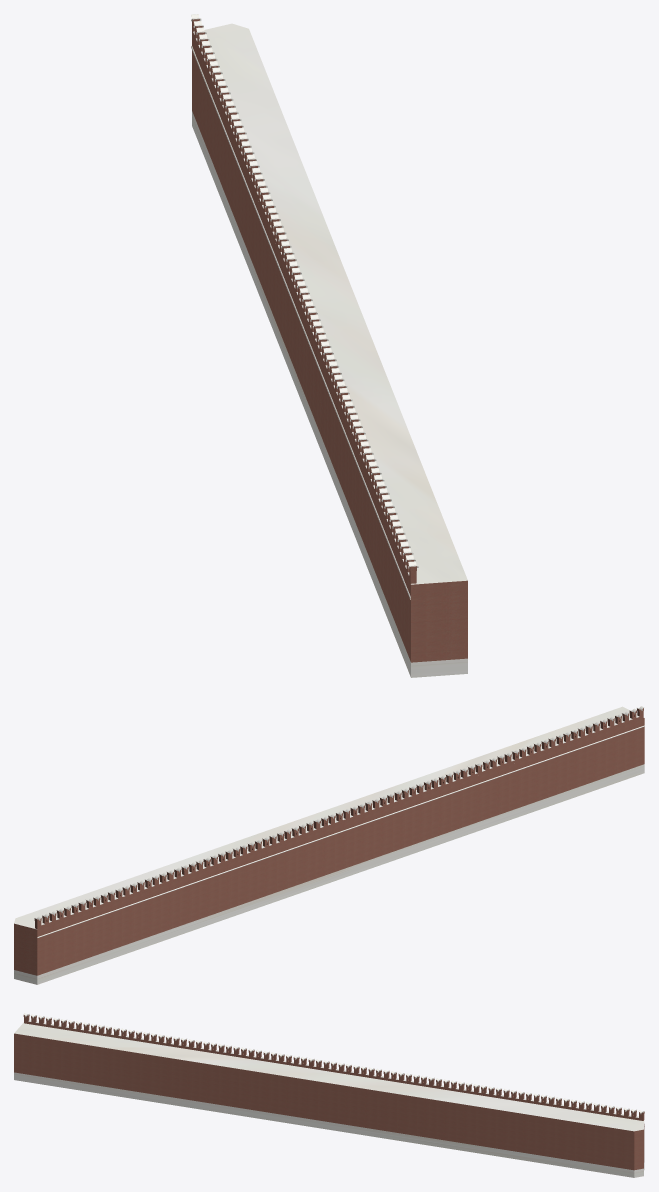
File: 01080_Kremlevskaya_stena_11.FBX
3 views of the same model, one above another, from view 1: azimuth 30°, elevation 25°; view 2: azimuth 150°, elevation 25°; view 3: azimuth 270°, elevation 25° (orthographic). The views are drawn at different scales.
Visible parts, largest first — view 1: Group_585, Group_250, Group_252, Group_513; view 2: Group_250, Group_252, Group_585, Group_513, Group_251; view 3: Group_250, Group_585, Group_252, Group_251.
Boxes of the visible parts, x1,y1,x2,y2 form: Group_585: (204, 23, 467, 584); Group_250: (192, 33, 467, 662); Group_252: (192, 111, 467, 677); Group_513: (191, 46, 410, 599); Group_250: (14, 718, 644, 975); Group_252: (14, 764, 644, 984); Group_585: (14, 706, 644, 929); Group_513: (37, 725, 644, 937); Group_251: (41, 717, 639, 927); Group_250: (14, 1033, 644, 1170); Group_585: (14, 1022, 644, 1131); Group_252: (14, 1072, 644, 1177); Group_251: (28, 1021, 638, 1120).
Size of the model in its own units: 61.43 by 14.52 by 150.
Materials: 2 (2 with a texture image).
